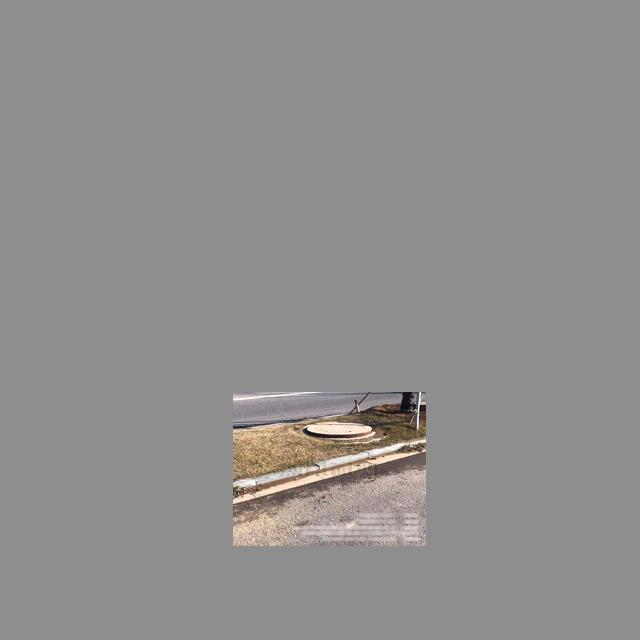uncovered: (306, 421, 376, 439)
